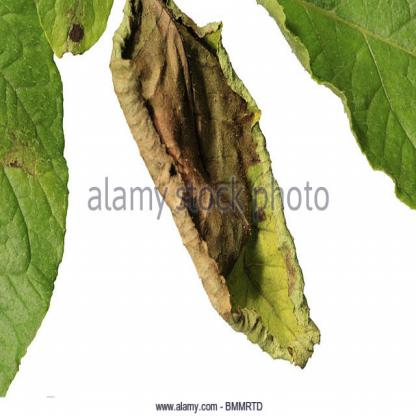Potato leaf early blight: (107, 1, 332, 377), (32, 1, 113, 58)
